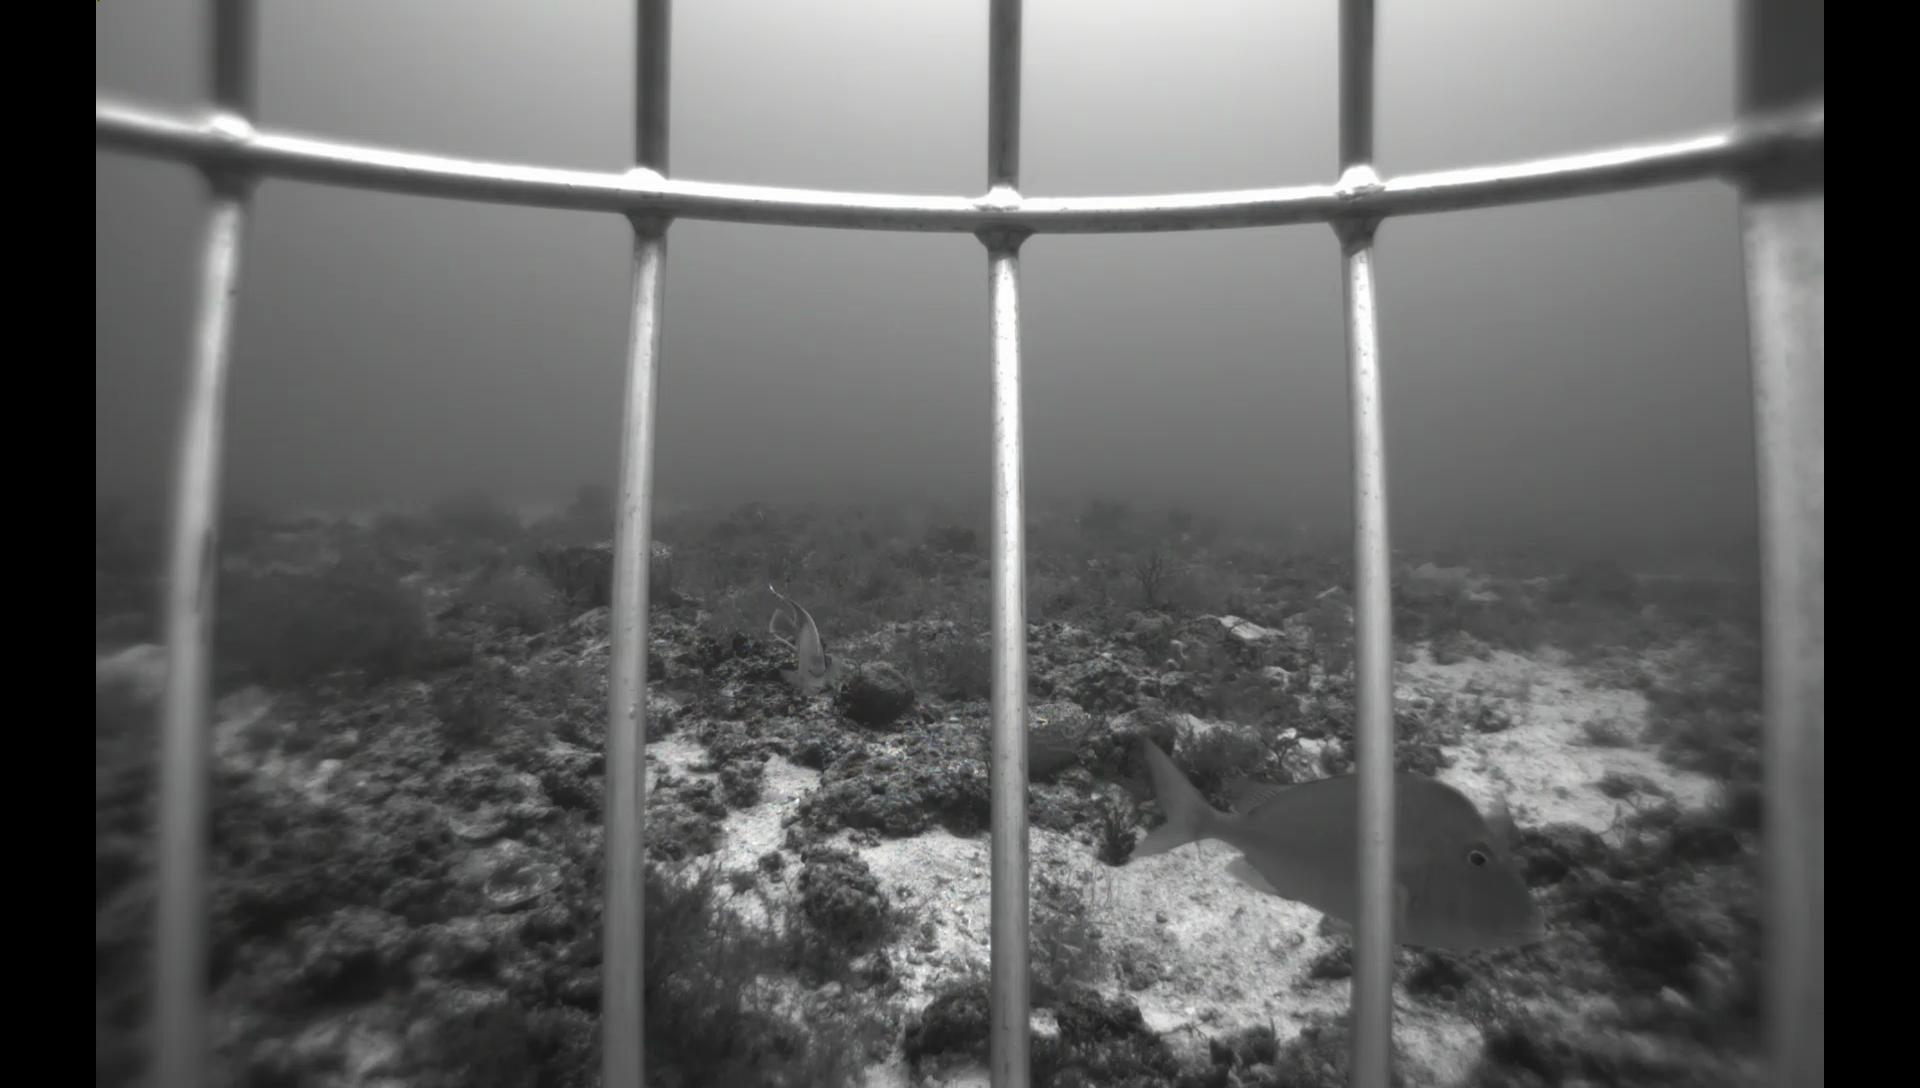CALAMUSNODOSUS-170210608: (1130, 721, 1559, 965)
HOLACANTHUSBERMUDENSIS-170290102: (752, 579, 849, 704)
MYCTEROPERCAPHENAX-170022105: (844, 510, 887, 555)
